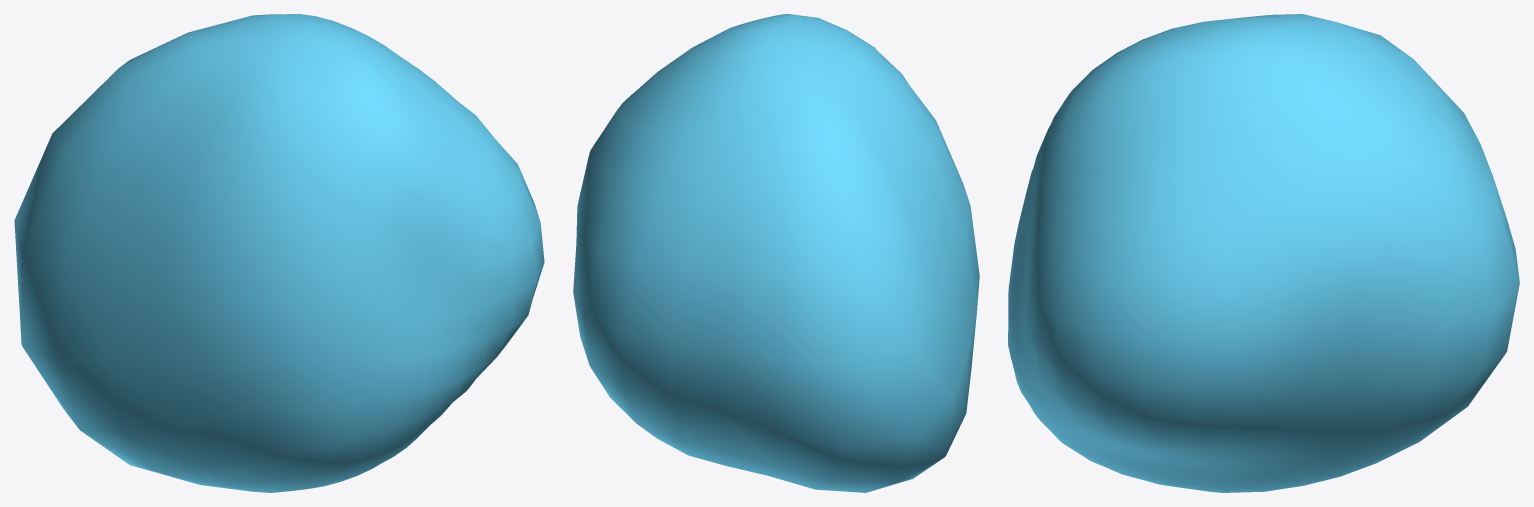
File: water.glb
The picture shows the model from 3 angles, left to right: view 1: azimuth 30°, elevation 25°; view 2: azimuth 150°, elevation 25°; view 3: azimuth 270°, elevation 25°; orthographic projection. The views are drawn at different scales.
Visible parts, largest first — view 1: Sphere; view 2: Sphere; view 3: Sphere.
Boxes of the visible parts, x1=… form: Sphere: x1=14, y1=14, x2=544, y2=492; Sphere: x1=573, y1=14, x2=979, y2=492; Sphere: x1=1008, y1=14, x2=1519, y2=492.
Size of the model in its own units: 3.2 by 3.2 by 3.2.
